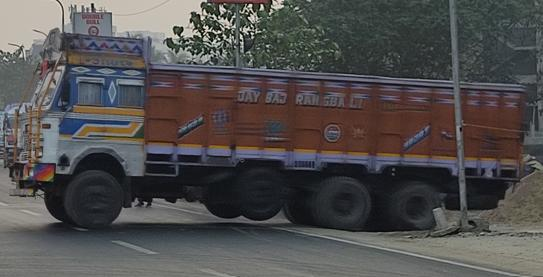Truck: (20, 28, 528, 234)
